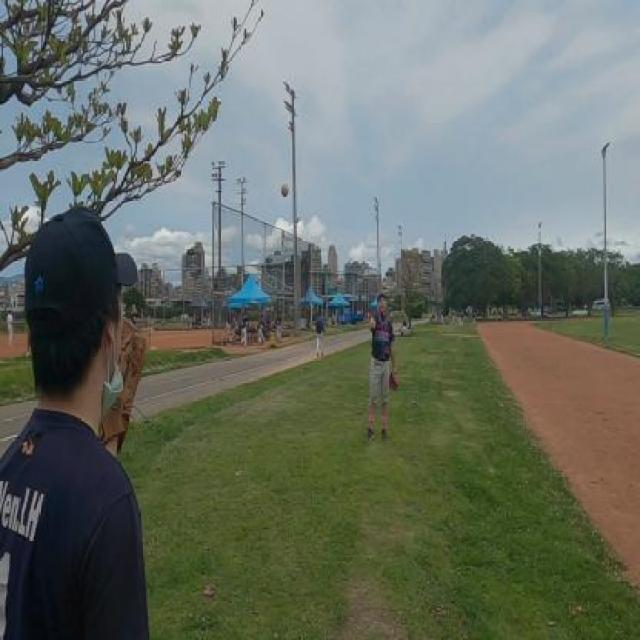baseball: (279, 182, 290, 200)
